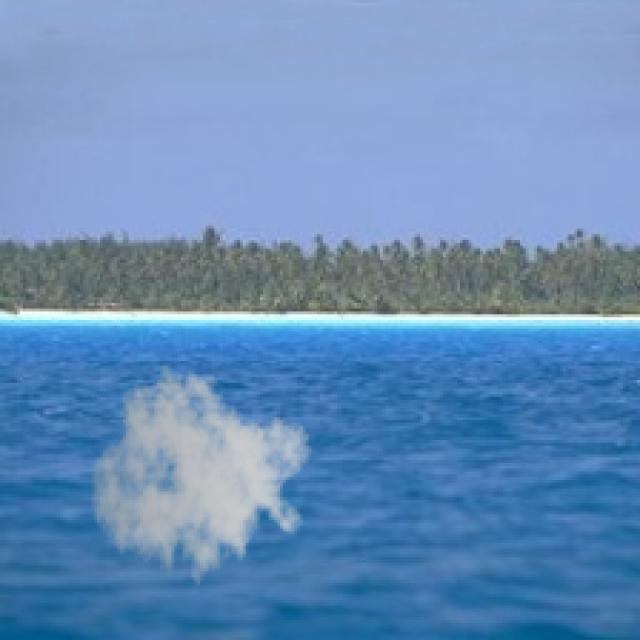smoke: (88, 363, 312, 600)
